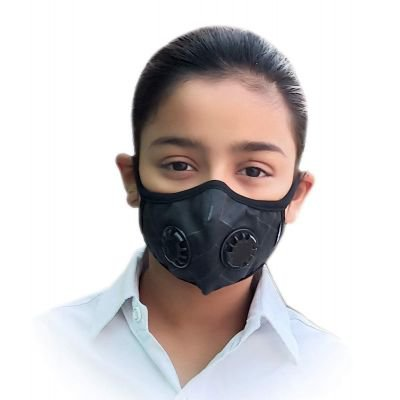mask: (109, 28, 337, 288)
